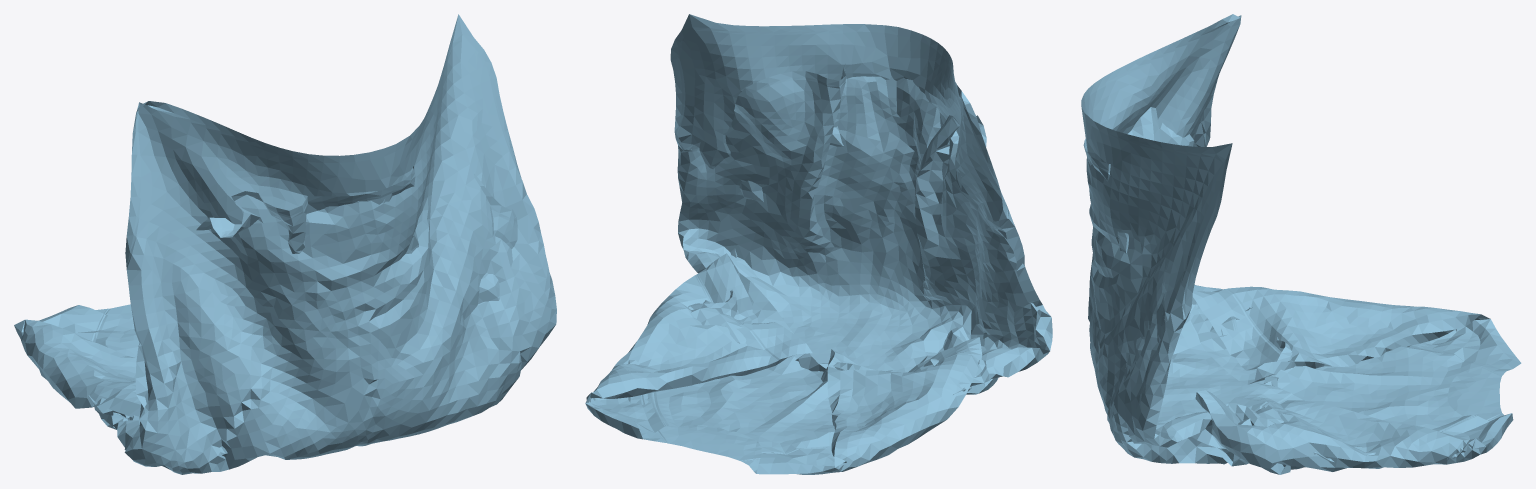
File: frame_12.glb
The picture shows the model from 3 angles, left to right: view 1: azimuth 30°, elevation 25°; view 2: azimuth 150°, elevation 25°; view 3: azimuth 270°, elevation 25°; orthographic projection. The views are drawn at different scales.
Visible parts, largest first — view 1: frame_12.obj; view 2: frame_12.obj; view 3: frame_12.obj.
Part boxes in pixels (left/top/right/bottom): frame_12.obj: left=14, top=14, right=556, bottom=474; frame_12.obj: left=585, top=14, right=1052, bottom=474; frame_12.obj: left=1081, top=14, right=1521, bottom=474.
Bounding box in the file's own units: 1.16 × 0.9403 × 1.12.
